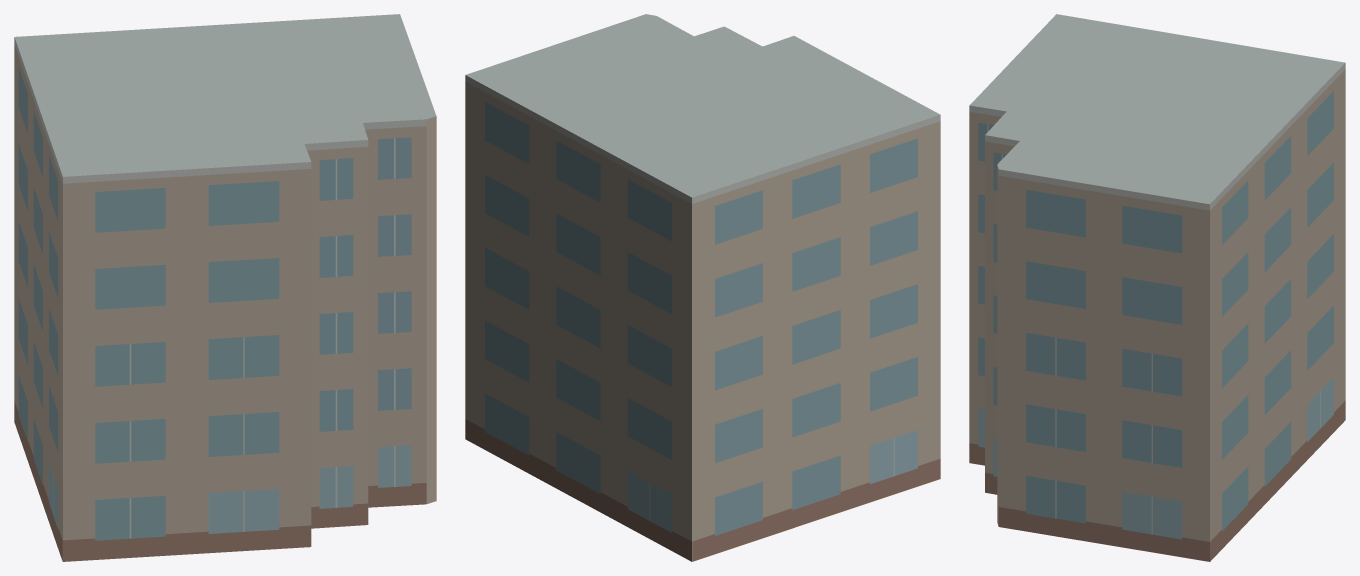
Rendered from survey-upis-32504627.glb.
3 renders of one model, left to right at view 1: azimuth 30°, elevation 25°; view 2: azimuth 150°, elevation 25°; view 3: azimuth 270°, elevation 25°, orthographic. The views are drawn at different scales.
Parts seen in each view (by area): view 1: survey-upis-32504627.tmp; view 2: survey-upis-32504627.tmp; view 3: survey-upis-32504627.tmp.
Boxes of the visible parts, x1,y1,x2,y2 form: survey-upis-32504627.tmp: (14, 14, 436, 561); survey-upis-32504627.tmp: (465, 14, 940, 561); survey-upis-32504627.tmp: (969, 14, 1345, 561).
Size of the model in its own units: 15.76 by 13.8 by 13.16.
